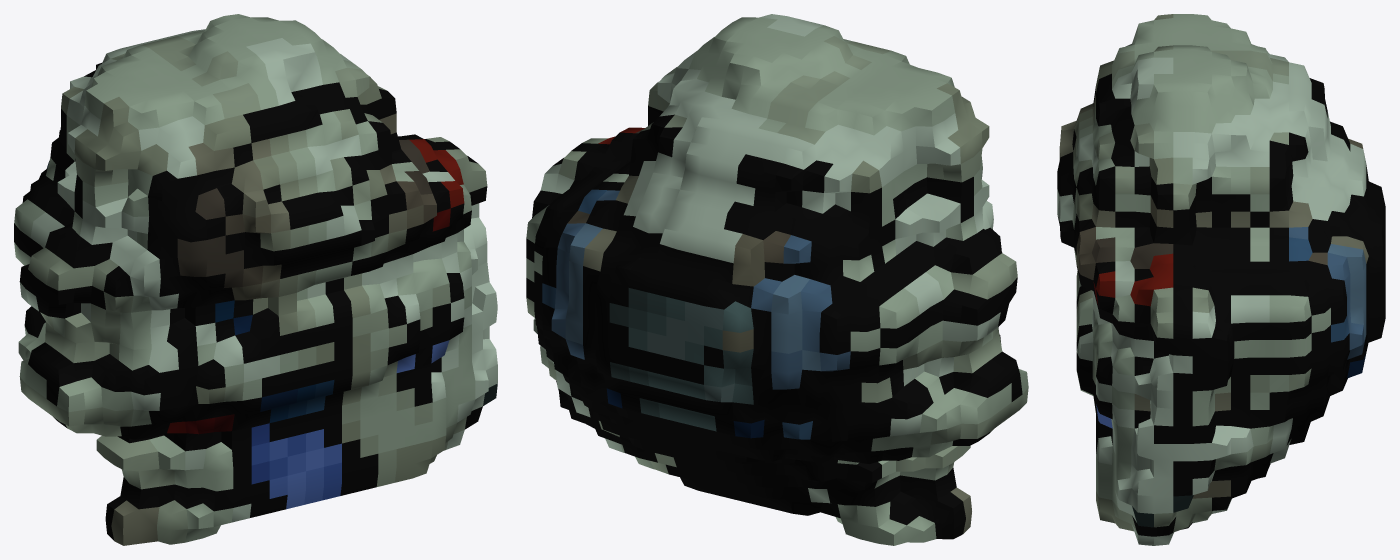
File: Icon_734_03.obj
3 renders of one model, left to right at view 1: azimuth 30°, elevation 25°; view 2: azimuth 150°, elevation 25°; view 3: azimuth 270°, elevation 25°, orthographic. The views are drawn at different scales.
Bounding box in the file's own units: 2.4 × 2.4 × 1.7.
